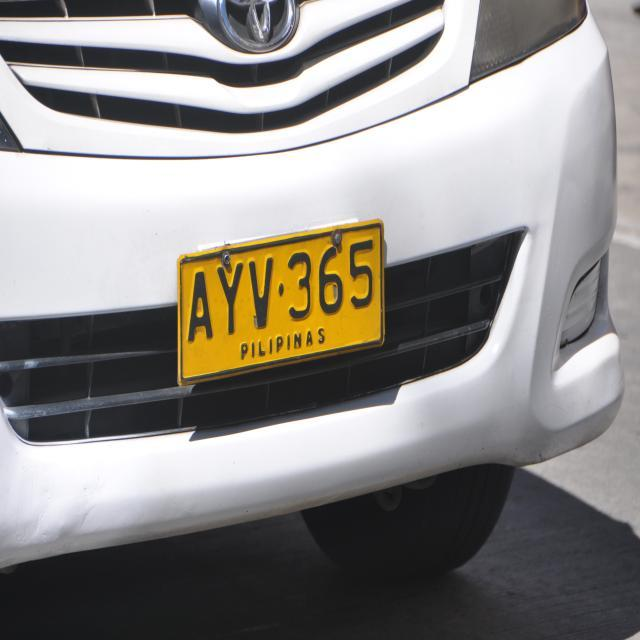LicensePlate: (155, 208, 400, 363)
